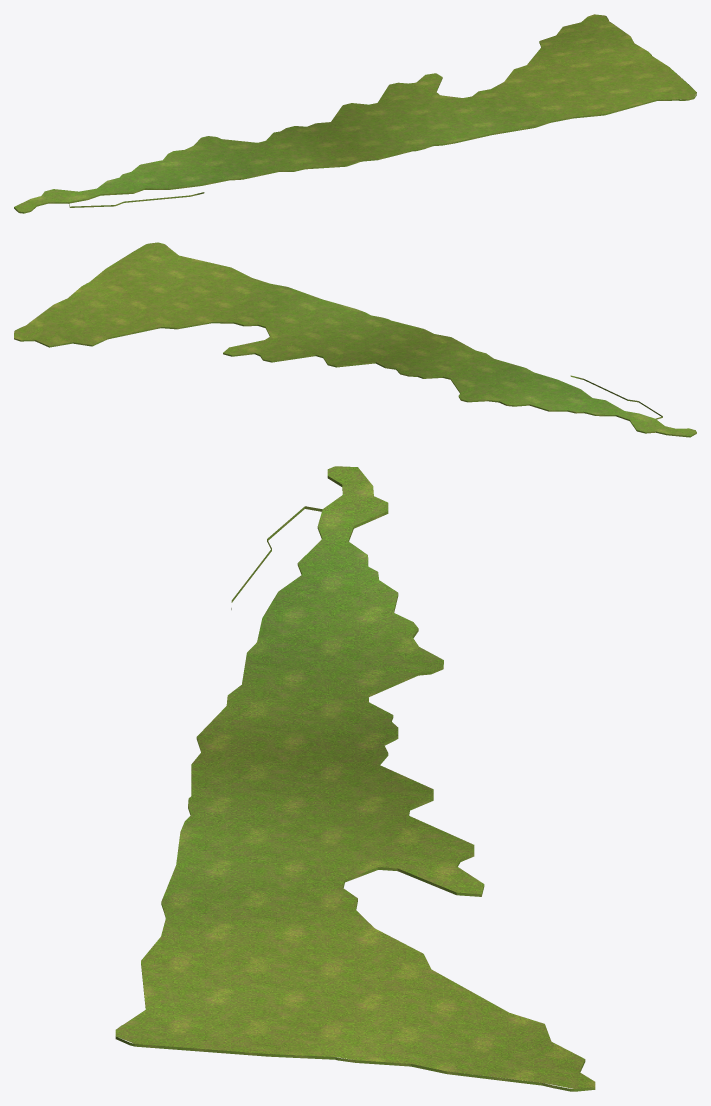
File: lawn_03.gltf
3 renders of one model, top to bottom at view 1: azimuth 30°, elevation 25°; view 2: azimuth 150°, elevation 25°; view 3: azimuth 270°, elevation 25°, orthographic. The views are drawn at different scales.
Visible parts, largest first — view 1: lawn_03.surface, lawn_03.sides; view 2: lawn_03.surface, lawn_03.sides; view 3: lawn_03.surface, lawn_03.sides.
Part boxes in pixels (<box>): lawn_03.surface: <box>14,14,696,211</box>; lawn_03.sides: <box>14,16,696,213</box>; lawn_03.surface: <box>14,242,696,435</box>; lawn_03.sides: <box>14,242,696,437</box>; lawn_03.surface: <box>115,466,595,1088</box>; lawn_03.sides: <box>115,476,595,1091</box>.
Size of the model in its own units: 28.49 by 0.7452 by 9.5.
Materials: 1 (1 with a texture image).
